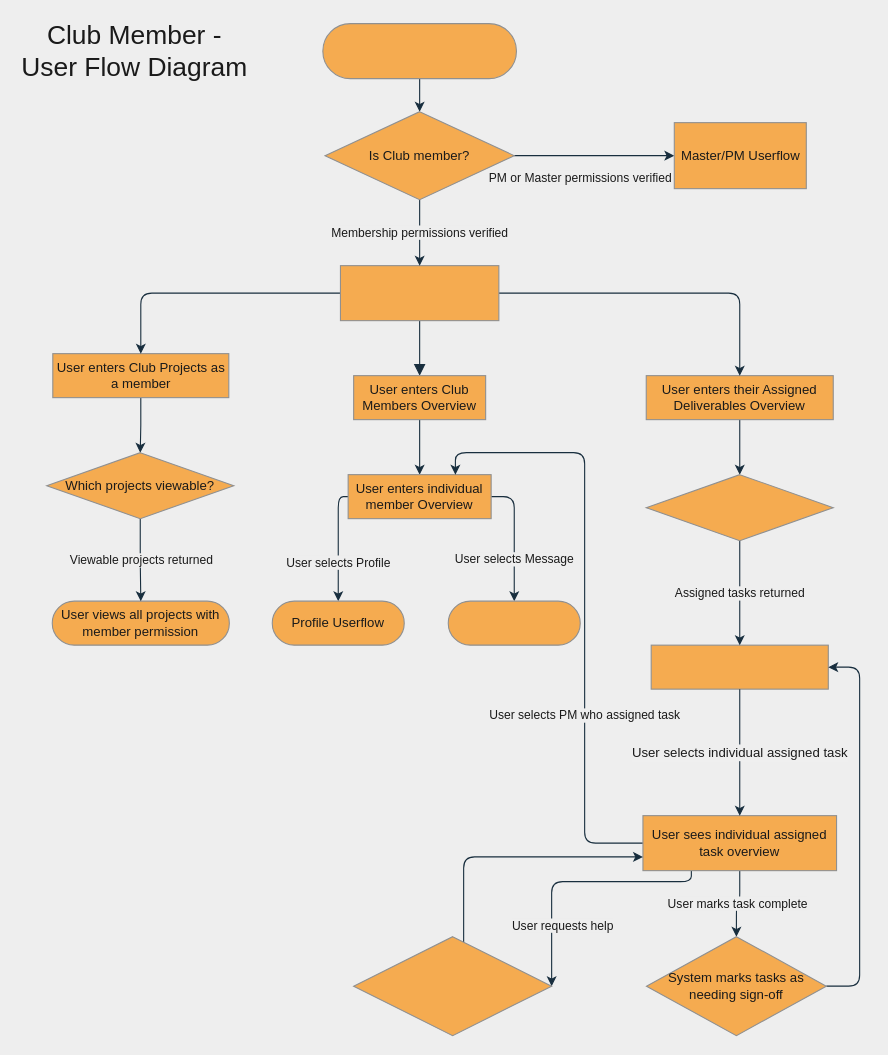
The diagram is 888 pixels wide and 1055 high, and some of its shapes have lost their labels. The shapes that lost their labels are listed below. From the top down, each one's centre as x and y in pixels, then its label:
pixel 419 51: User enters total clubs they are a member of overview page
pixel 419 293: User Enters an individual Club Page as a Member
pixel 739 507: Which tasks are assigned?
pixel 513 622: Chat Userflow
pixel 739 666: User views all assigned tasks
pixel 452 986: System marks task as help request
